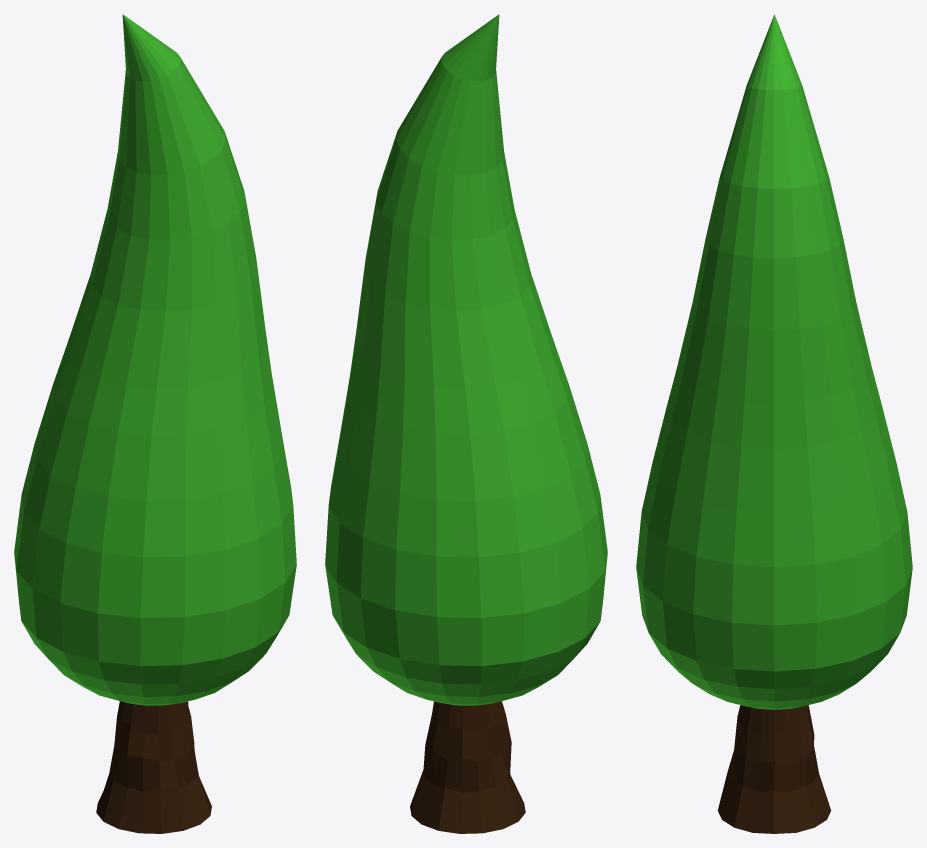
The model's file is copacAdi1.fbx.
3 renders of one model, left to right at view 1: azimuth 30°, elevation 25°; view 2: azimuth 150°, elevation 25°; view 3: azimuth 270°, elevation 25°, orthographic. The views are drawn at different scales.
Visible parts, largest first — view 1: TRUNCHI 3, FRUNZE 3; view 2: TRUNCHI 3, FRUNZE 3; view 3: TRUNCHI 3, FRUNZE 3.
Boxes of the visible parts, <box> form: TRUNCHI 3: <box>14,14,296,705</box>; FRUNZE 3: <box>96,701,211,833</box>; TRUNCHI 3: <box>325,14,607,705</box>; FRUNZE 3: <box>410,701,525,833</box>; TRUNCHI 3: <box>636,14,912,709</box>; FRUNZE 3: <box>717,705,831,833</box>.
Bounding box in the file's own units: 111 × 345 × 111.
